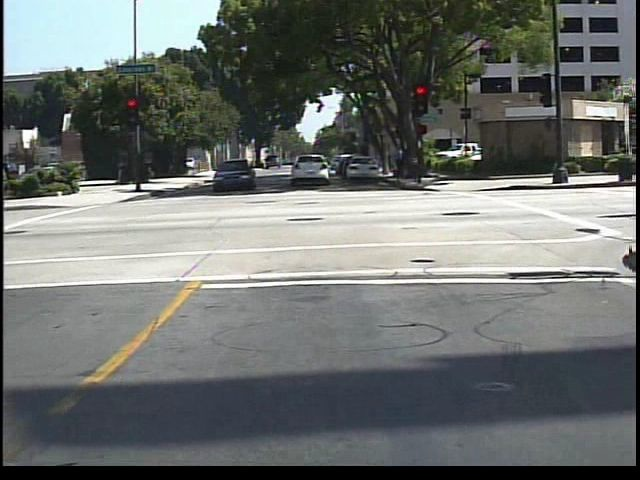person: (390, 141, 408, 184)
